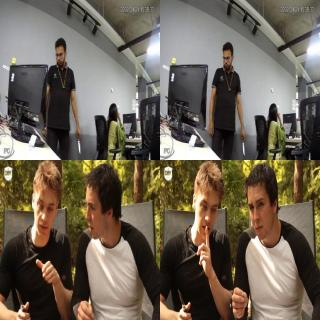knife: (14, 284, 32, 320), (175, 285, 193, 319), (72, 134, 82, 154), (241, 141, 246, 157)
